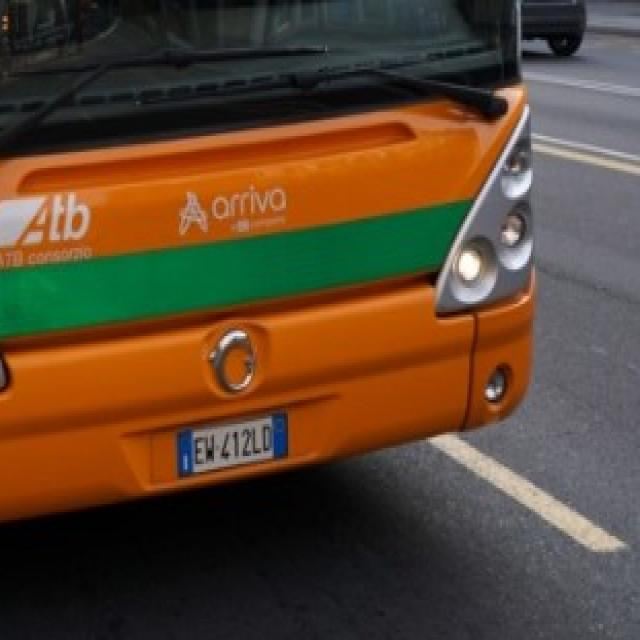bus: (0, 0, 547, 541)
car: (516, 0, 590, 59)
